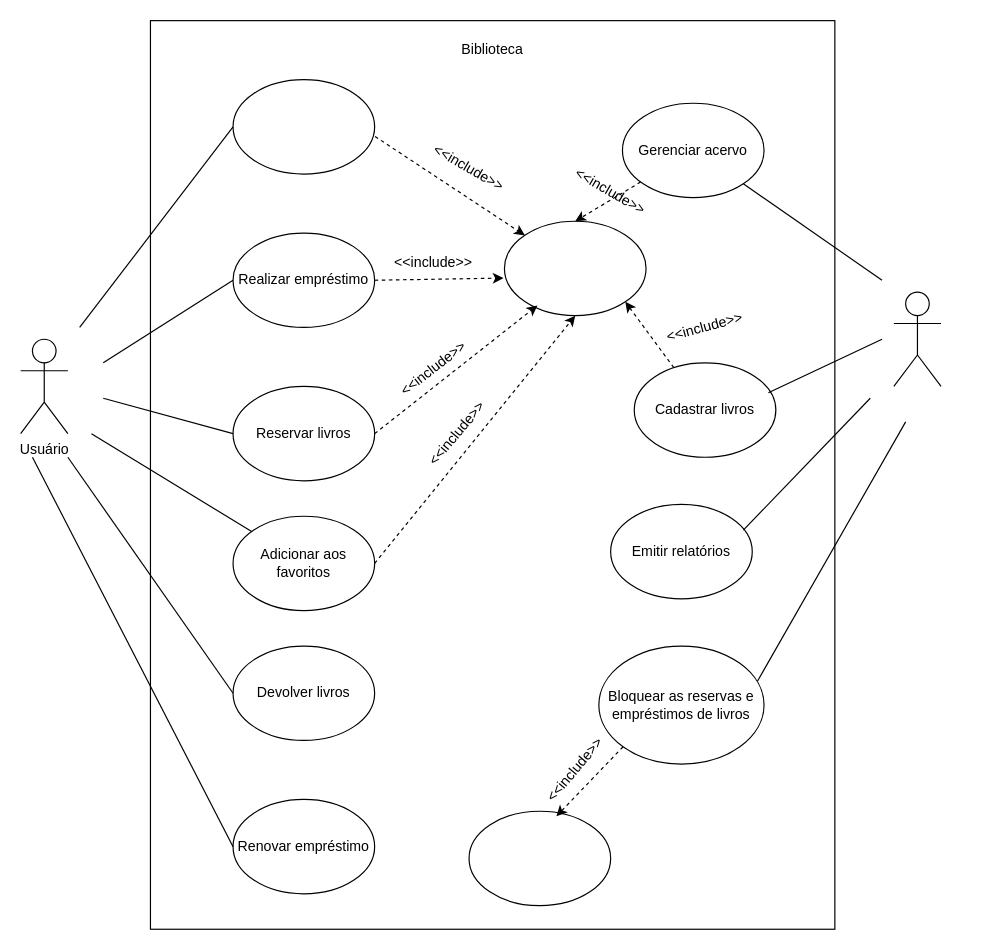
The diagram is 982 pixels wide and 950 high, and some of its shapes have lost their labels. The centre of each missing label's shape, as x and y in pixels:
Administrador: point (917, 338)
Interagir no fórum: point (303, 126)
Notificar os usuários: point (539, 858)
Realizar cadastro: point (574, 268)
